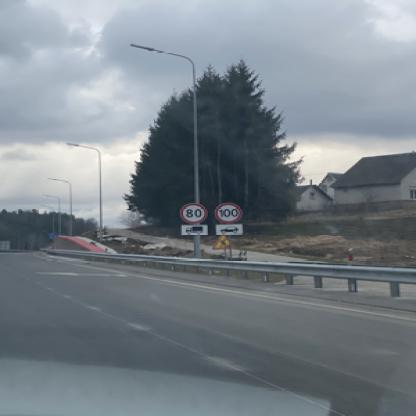speedlimit: (176, 202, 205, 224), (211, 202, 238, 222)
